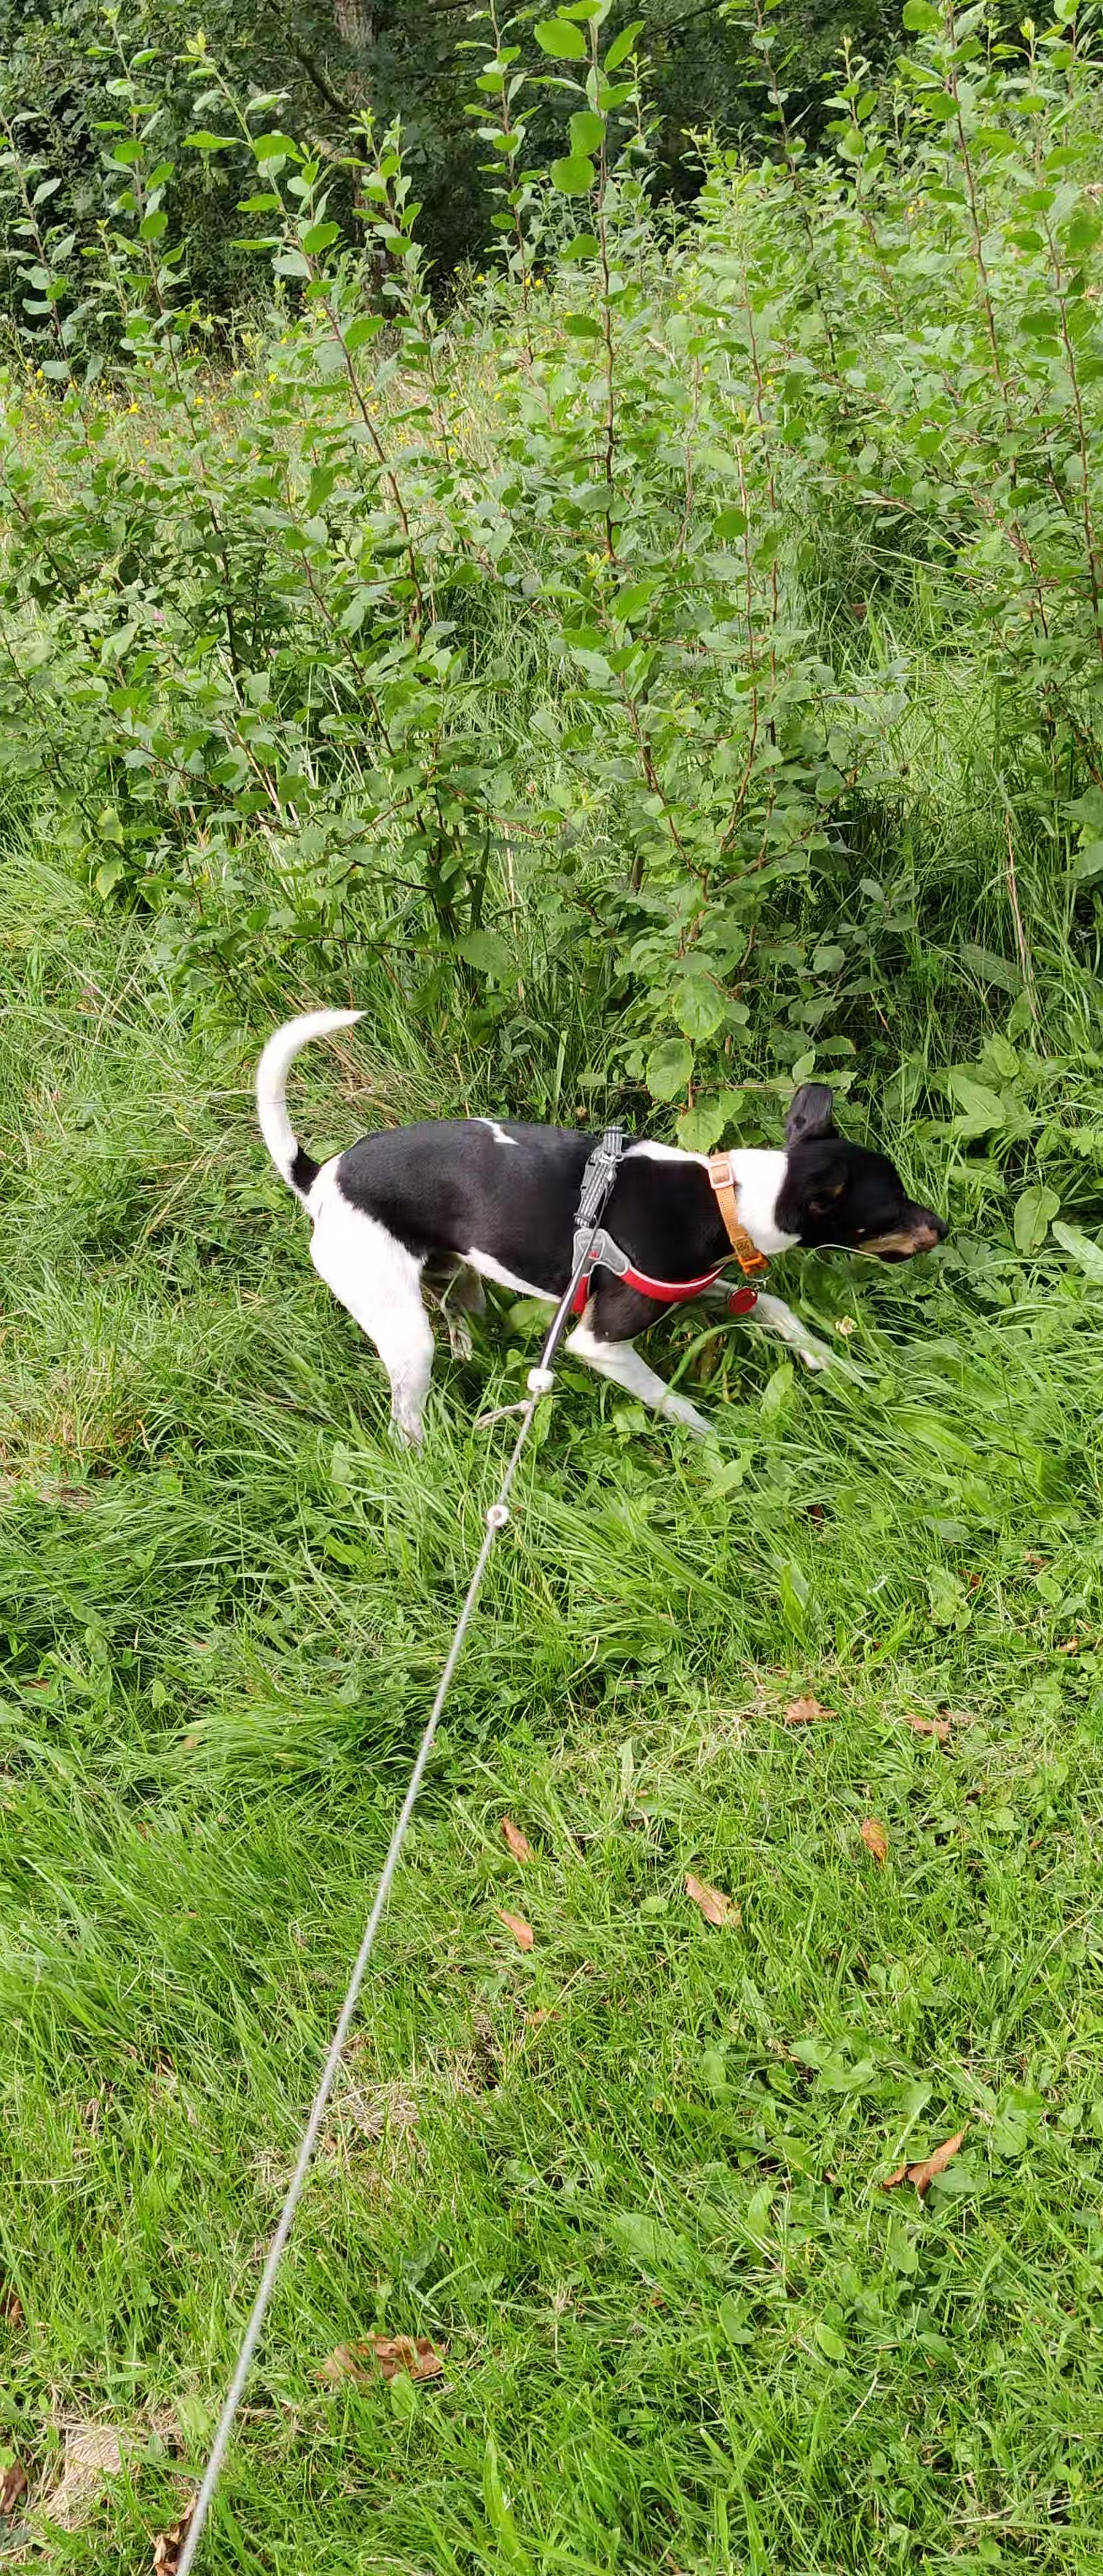Dog: (240, 989, 973, 1474)
